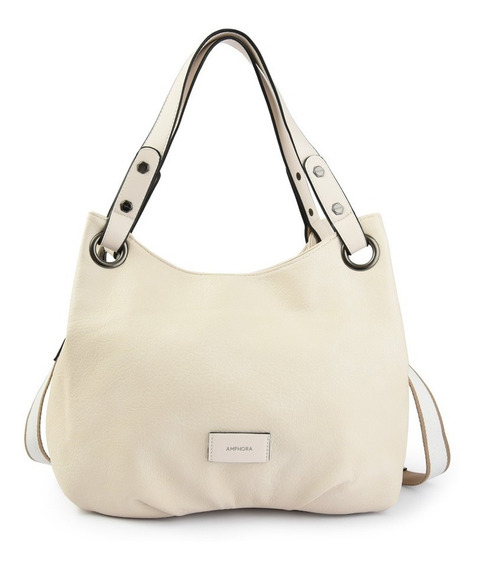cartera: (22, 25, 454, 524)
